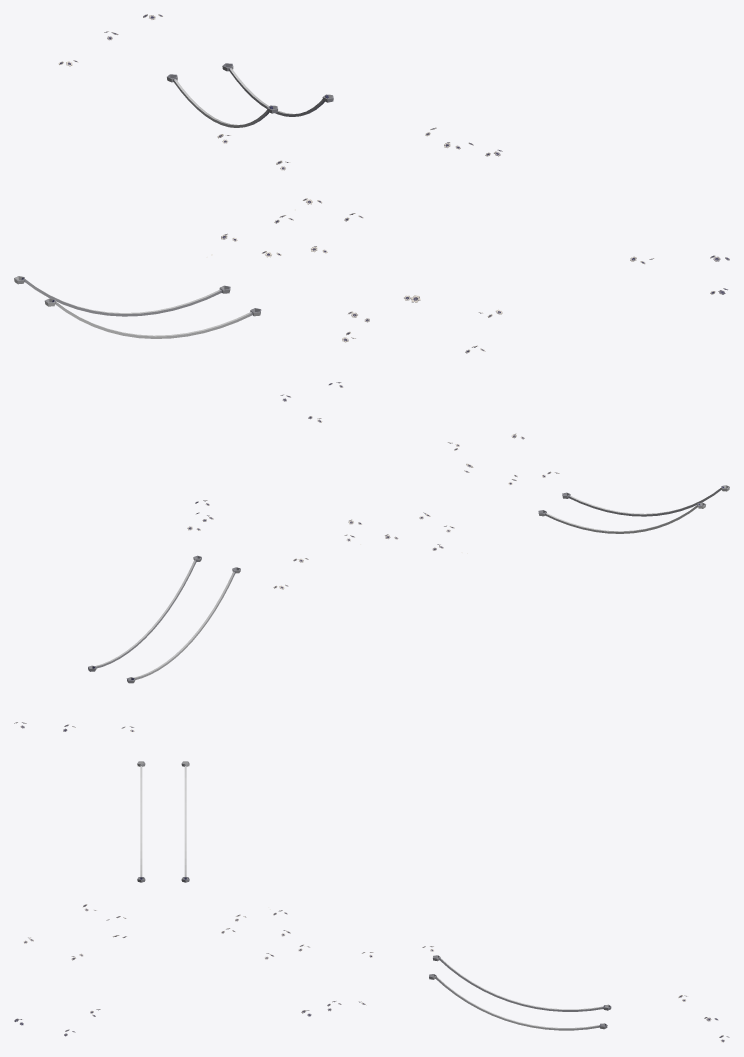
The model's file is Flower_01.FBX.
3 renders of one model, top to bottom at view 1: azimuth 30°, elevation 25°; view 2: azimuth 150°, elevation 25°; view 3: azimuth 270°, elevation 25°, orthographic. The views are drawn at different scales.
Visible parts, largest first — view 1: Flower_01; view 2: Flower_01; view 3: Flower_01.
Boxes of the visible parts, x1,y1,x2,y2 form: Flower_01: [14, 14, 729, 353]; Flower_01: [14, 382, 729, 732]; Flower_01: [14, 761, 729, 1042].
Bounding box in the file's own units: 28.8 × 5.93 × 39.19.
